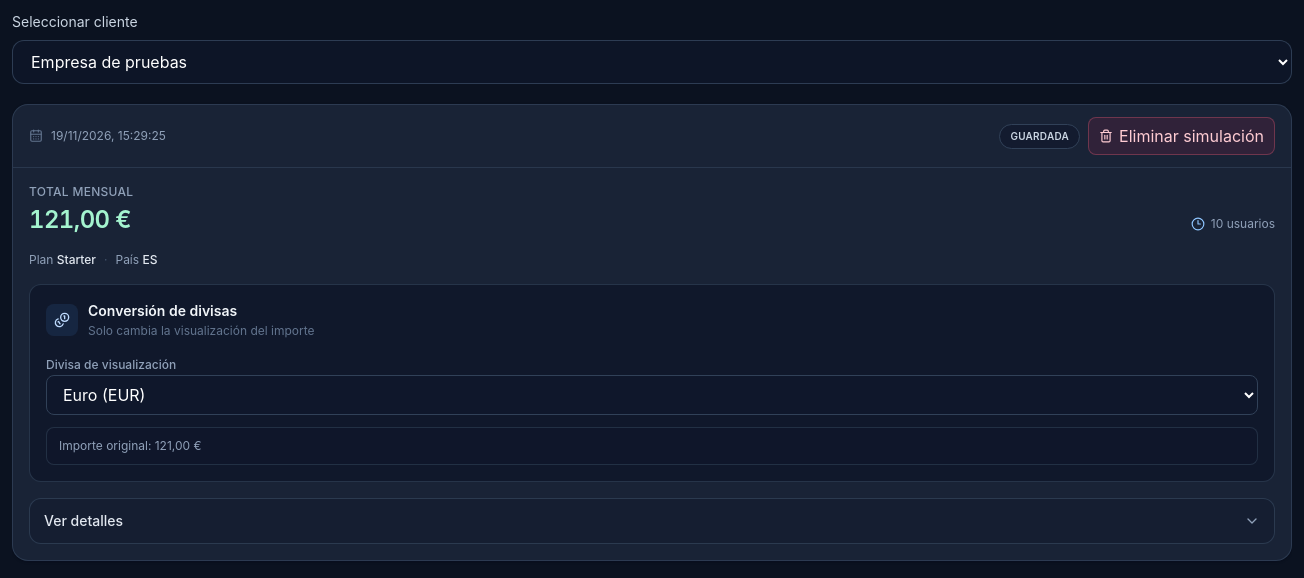
Test: SimulationHistory › shows the empty-history state and hides pagination after deleting the last simulation
This screenshot has width=1304, height=578.
Check: the text "Ver detalles" is shown, box [44,511,123,531]
Click the button with aria-label "Eliminar simulación del" at (1182, 136), box [1088,117,1275,155]
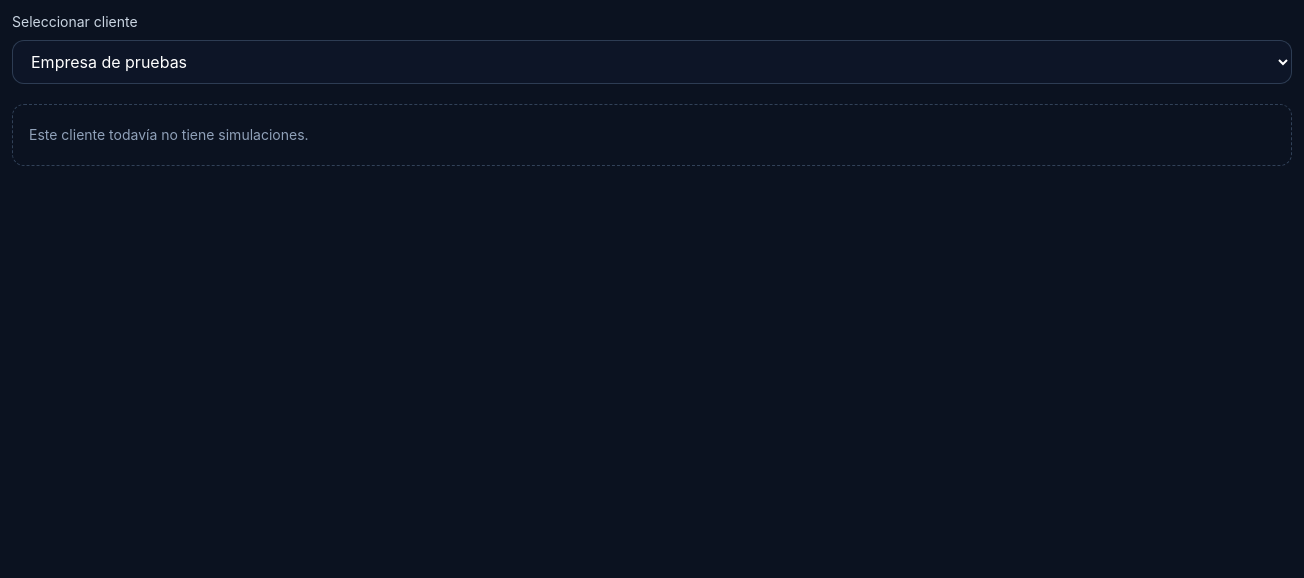
Check: the text "Este cliente todavía no tiene simulaciones." is shown, box [12,104,1292,166]
